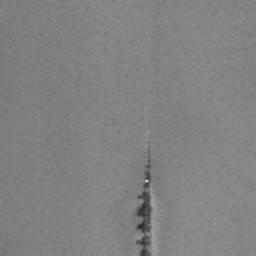Slag inclusion: (134, 142, 156, 256)
